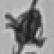not correct: (0, 0, 52, 54)
